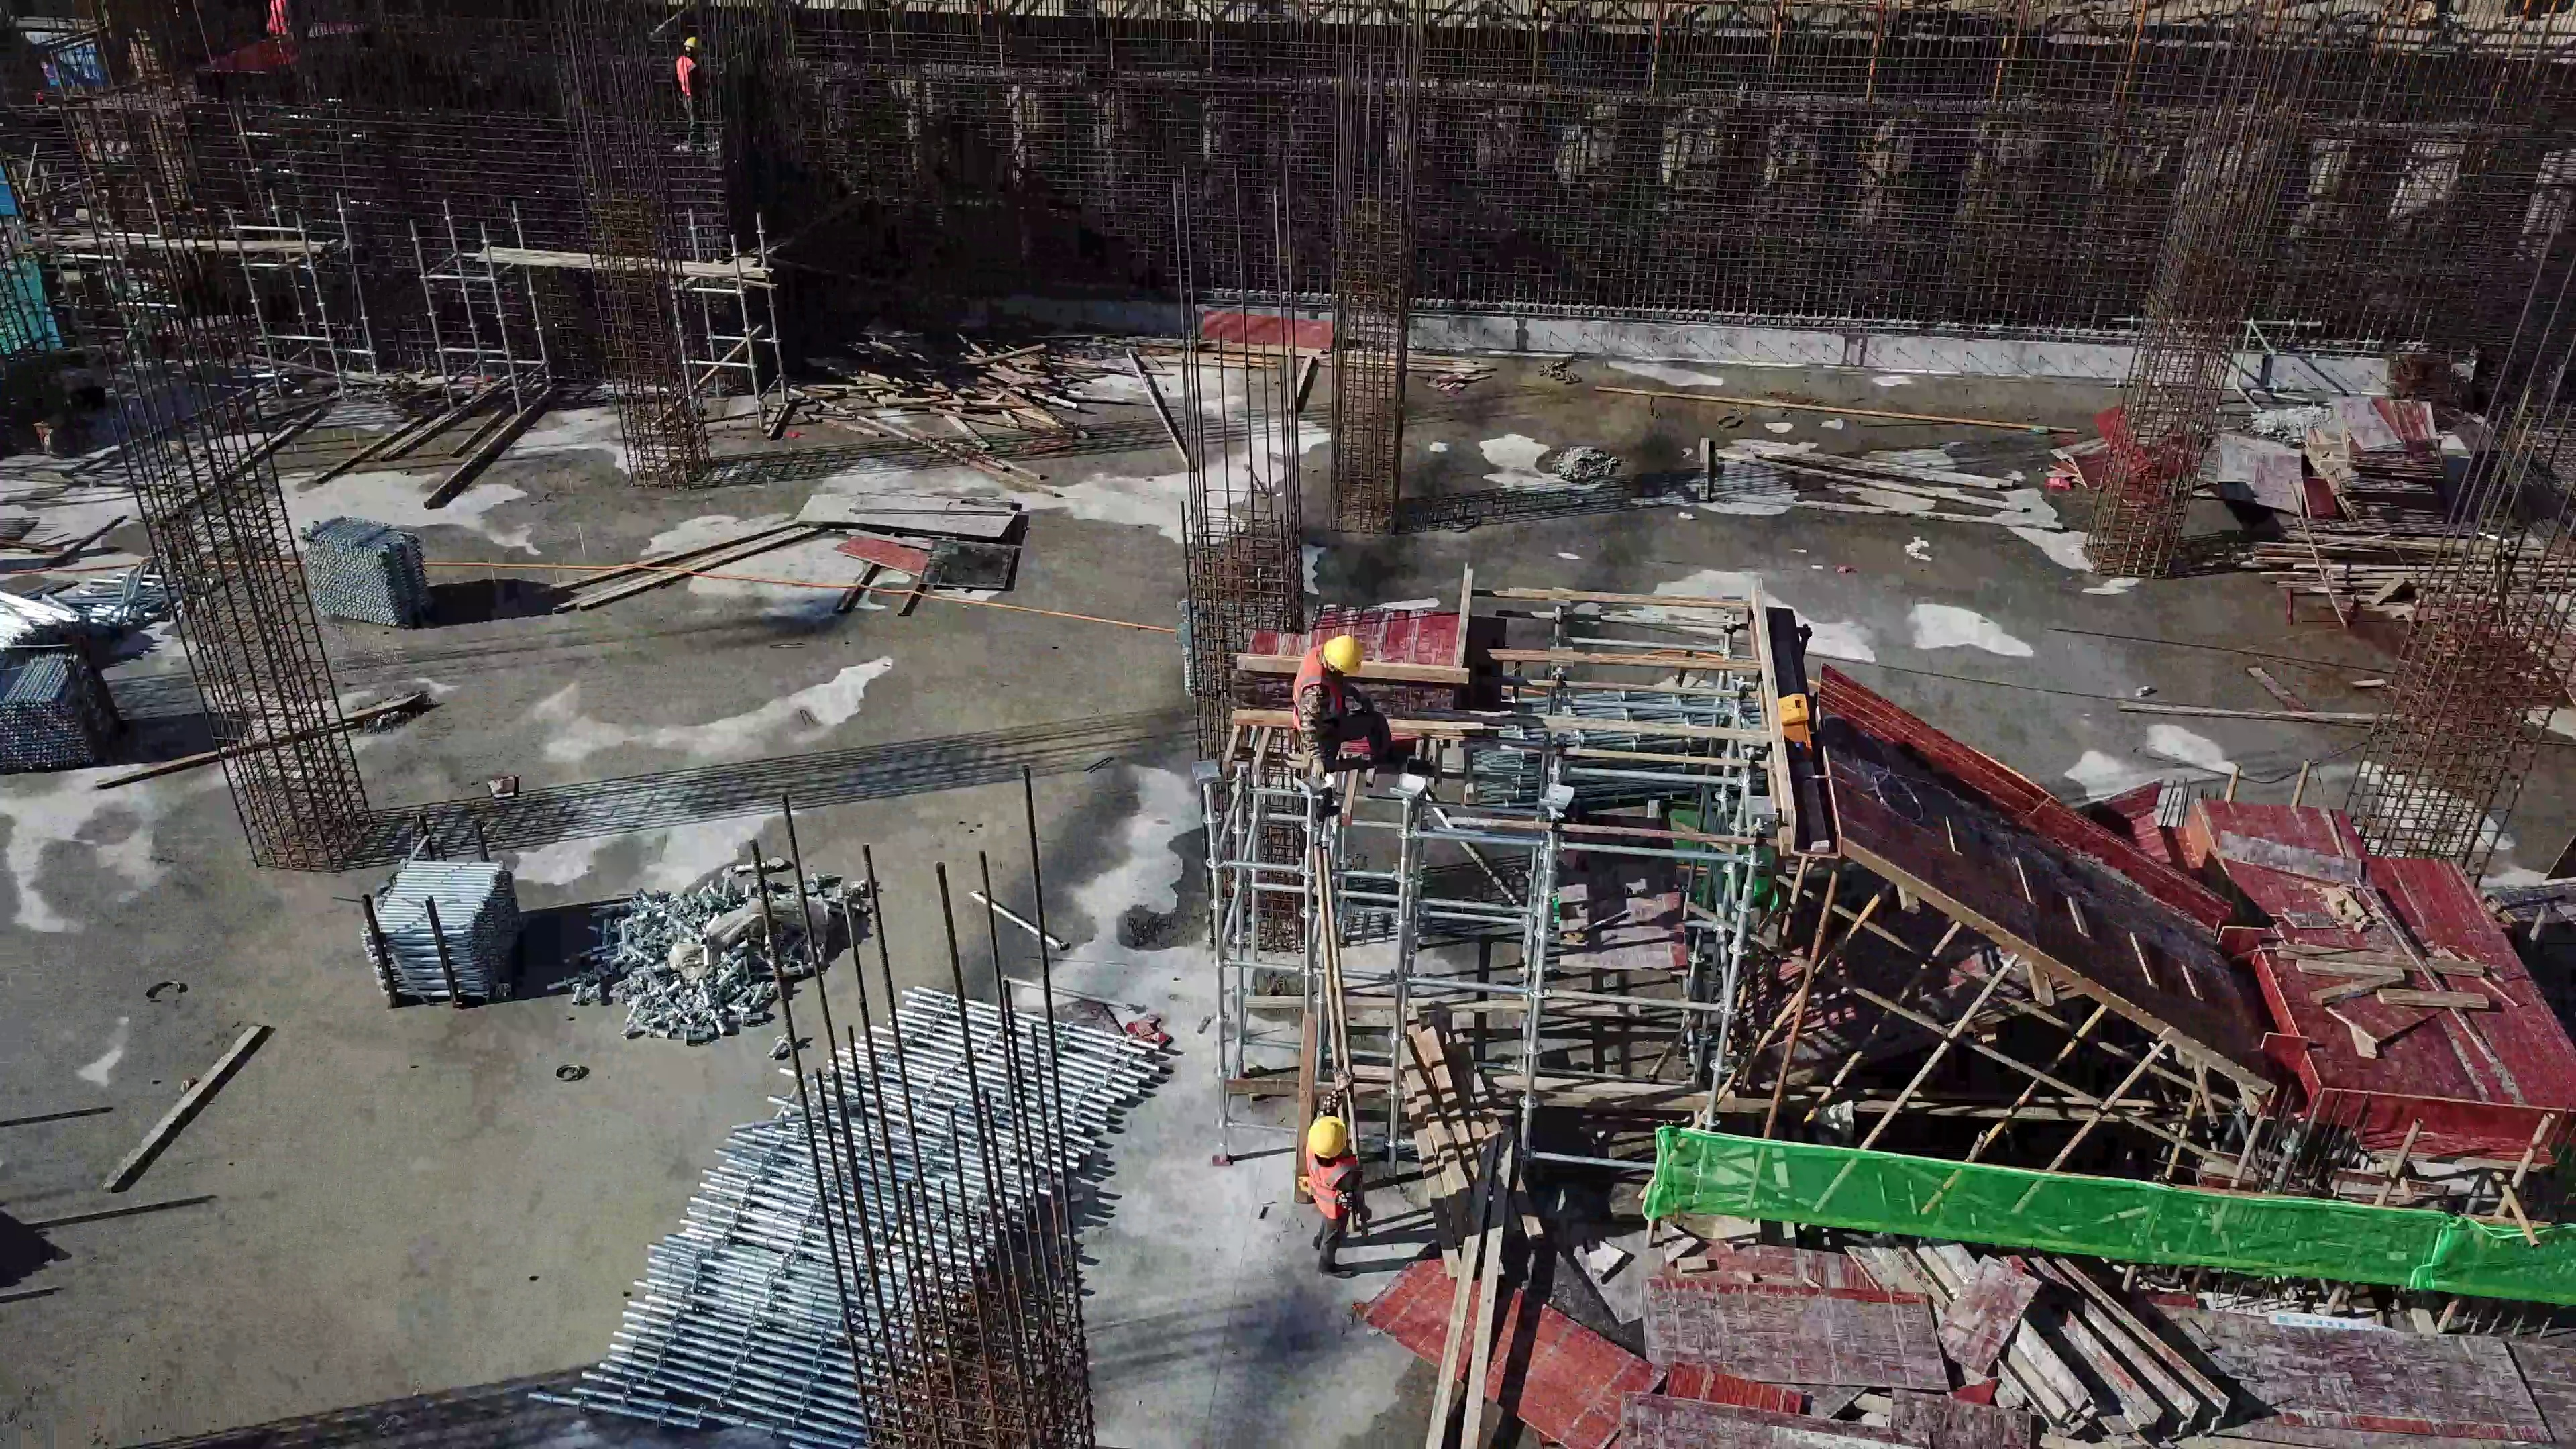helmet: (1294, 1121, 1352, 1164), (1321, 632, 1368, 676), (680, 35, 706, 50)
person: (1277, 616, 1421, 806), (1279, 1104, 1380, 1285), (667, 30, 715, 146)
vest: (1286, 640, 1326, 735), (1301, 1165, 1359, 1218), (674, 55, 698, 95)
